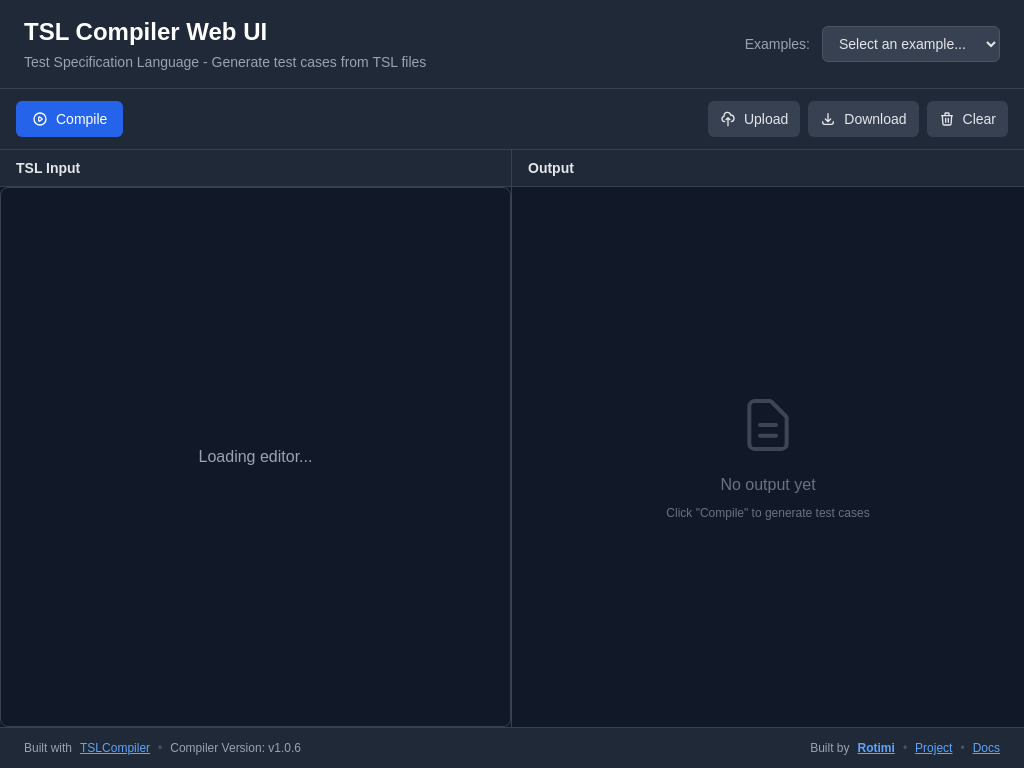
Test case: Home Page Integration Tests › Example Selection Flow › should clear output when loading example
Click the button "Compile".
click(70, 119)  # box [16,101,123,137]
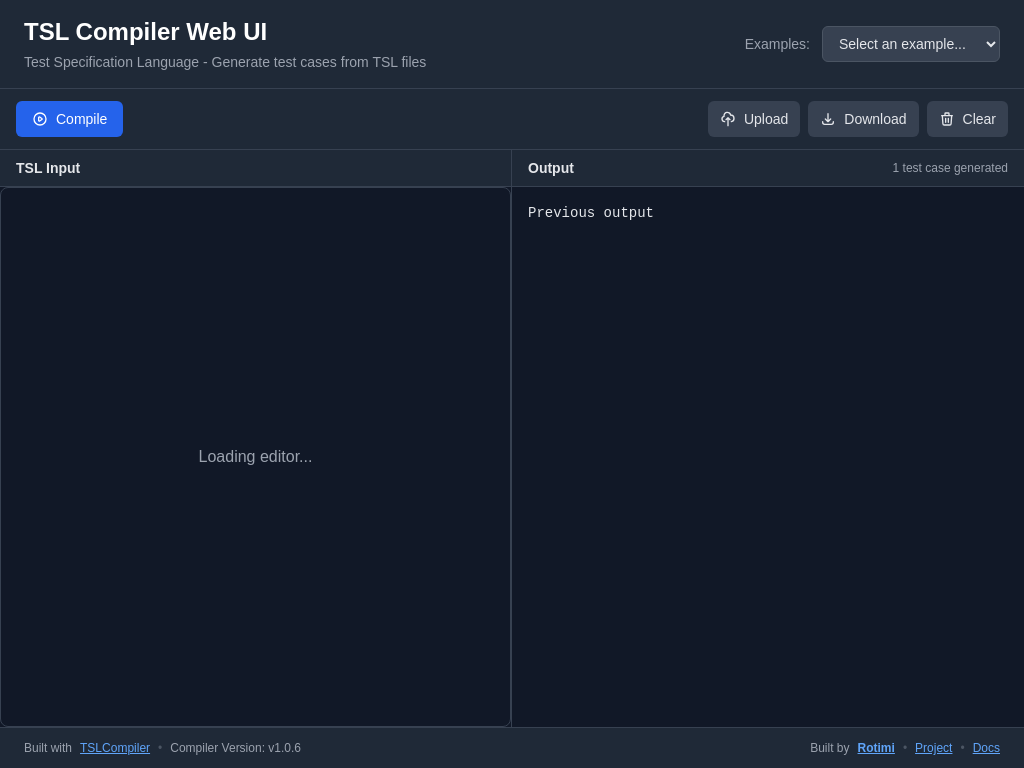
Expected: the text "Previous output" is shown, [528,205,654,221]
Note: Load example
Select "Basic Test" in the dropdown at (911, 44), box [822,26,1000,62]
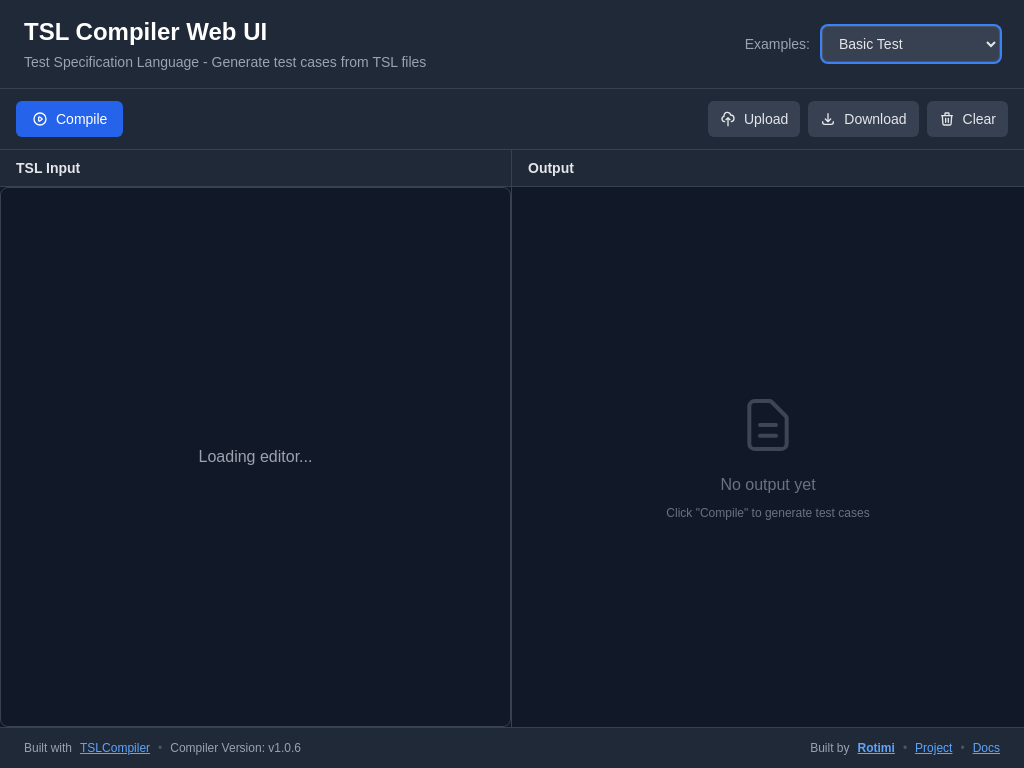
Expected: the text "Previous output" is gone
Expected: the text "Click \"Compile\" to generate test cases" is shown, [666,505,870,521]
